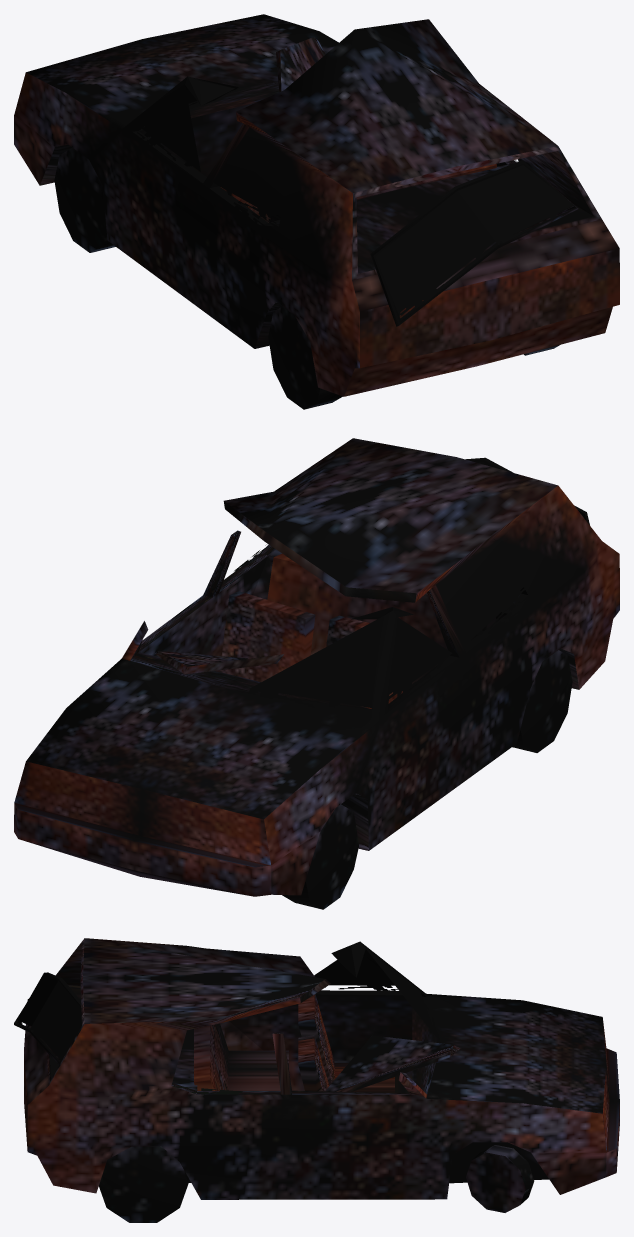
Rendered from CivCarWrecked_V2.glb.
3 views of the same model, one above another, from view 1: azimuth 30°, elevation 25°; view 2: azimuth 150°, elevation 25°; view 3: azimuth 270°, elevation 25° (orthographic). The views are drawn at different scales.
Parts seen in each view (by area): view 1: CIVCARWRECKED_V2; view 2: CIVCARWRECKED_V2; view 3: CIVCARWRECKED_V2.
Part boxes in pixels (x1,y1,x2,y2): CIVCARWRECKED_V2: (14,14,619,409); CIVCARWRECKED_V2: (14,438,619,909); CIVCARWRECKED_V2: (14,938,619,1222).
Size of the model in its own units: 1.91 by 1.76 by 4.46.
2 materials, 2 textured.
